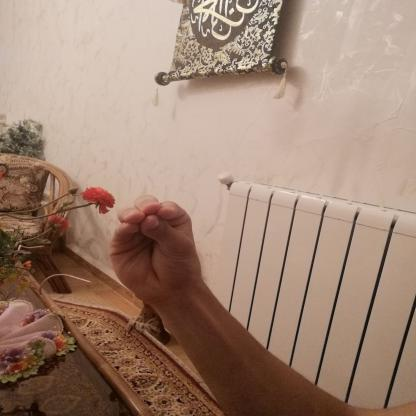HA: (93, 188, 220, 314)
